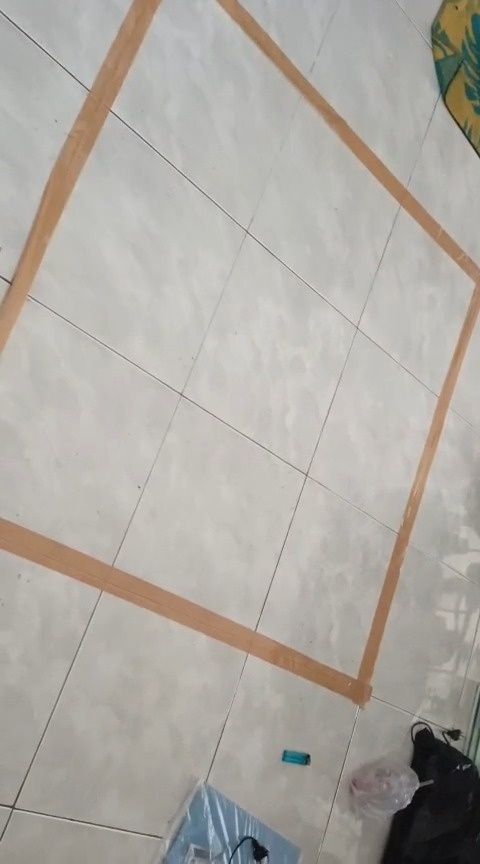floor marking: (0, 0, 479, 706), (0, 0, 159, 352)
